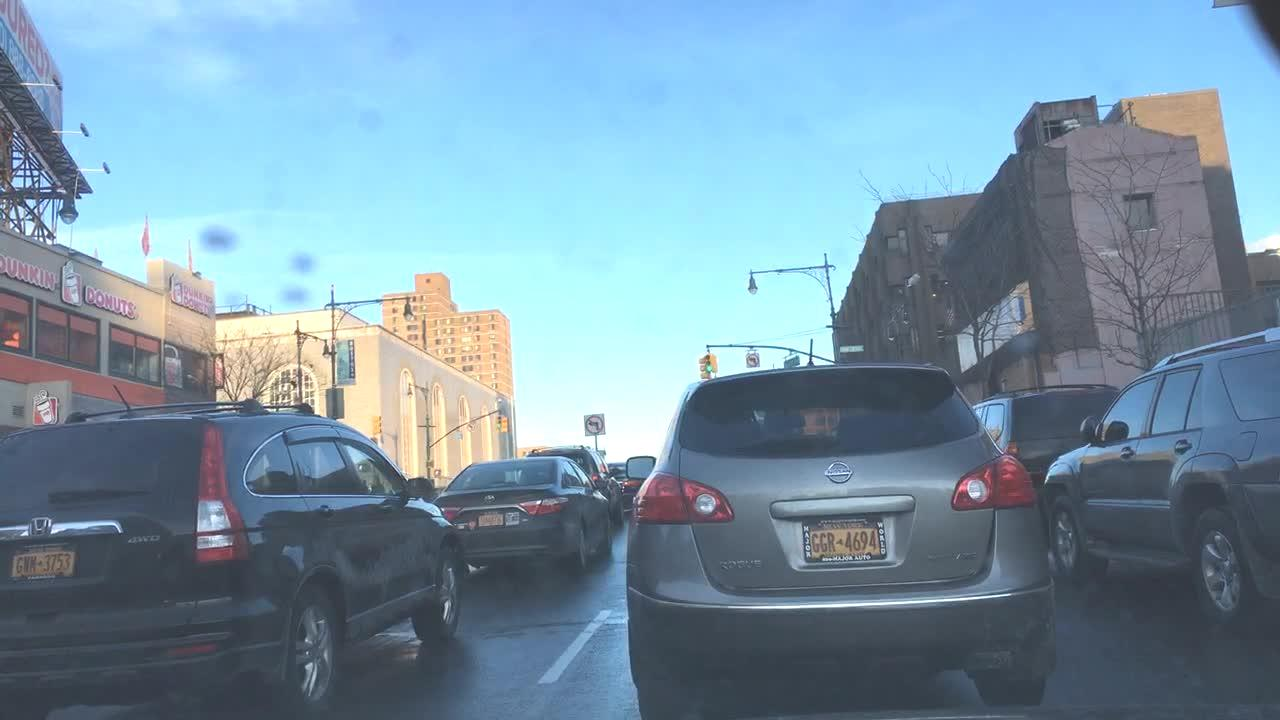Honda: (18, 500, 66, 558)
Nissan: (822, 458, 856, 486)
